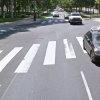Crosswalk: (5, 38, 79, 78)
